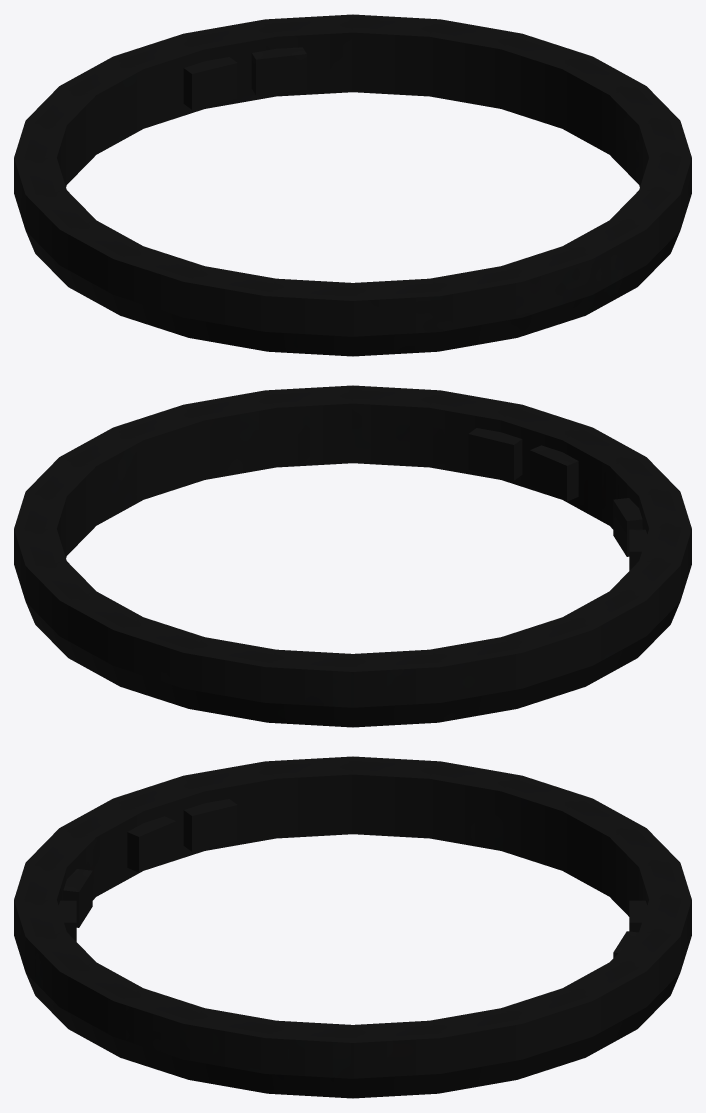
Rendered from rotanev_control_s2_1.obj.
3 views of the same model, one above another, from view 1: azimuth 30°, elevation 25°; view 2: azimuth 150°, elevation 25°; view 3: azimuth 270°, elevation 25° (orthographic).
Visible parts, largest first — view 1: 1; view 2: 1; view 3: 1.
Boxes of the visible parts, x1=… form: 1: x1=14, y1=14, x2=691, y2=356; 1: x1=14, y1=385, x2=691, y2=727; 1: x1=14, y1=756, x2=691, y2=1098.
Size of the model in its own units: 2.58 by 0.25 by 2.58.
